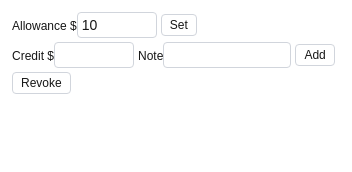
Scenario: AccountActions › posts set_allowance with the dollar amount, refreshes, and shows a success line (S4b)
Step 1. Replace the text in the field labelled "Allowance $" with "25" → [117, 25], box [77,12,157,38]
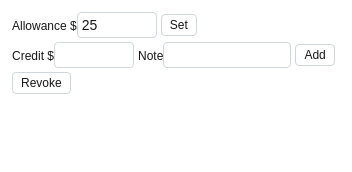
Step 2. Click the button "Set" → [179, 25], box [161,14,197,36]
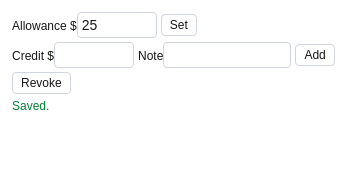
Expected: the message reads "Saved.", [12,99,49,113]
